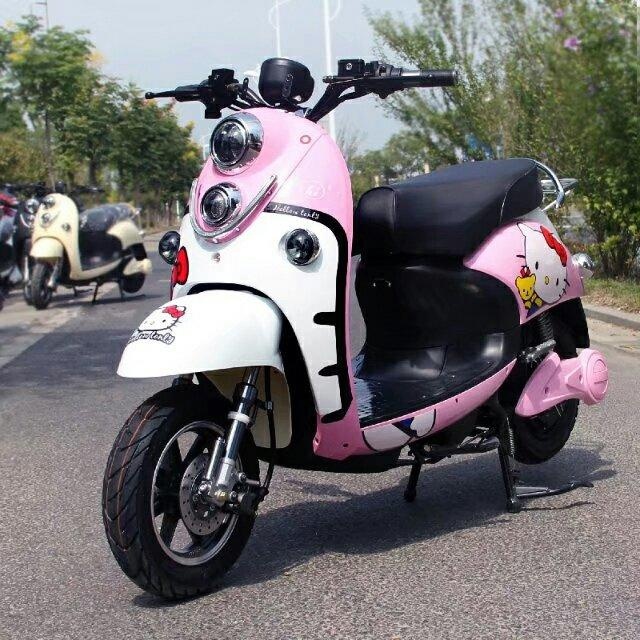non-vehicle: (101, 57, 601, 598), (22, 188, 146, 312)
